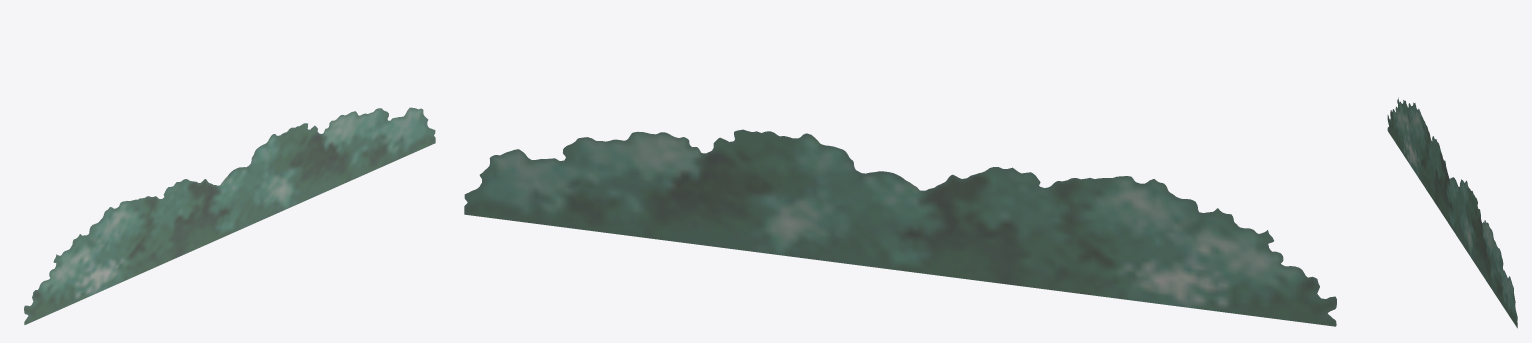
Rendered from sucai_28.FBX.
The picture shows the model from 3 angles, left to right: view 1: azimuth 30°, elevation 25°; view 2: azimuth 150°, elevation 25°; view 3: azimuth 270°, elevation 25°; orthographic projection. The views are drawn at different scales.
Parts seen in each view (by area): view 1: sucai_28; view 2: sucai_28; view 3: sucai_28.
Boxes of the visible parts, <box> form: sucai_28: <box>24,107,435,324</box>; sucai_28: <box>464,129,1336,326</box>; sucai_28: <box>1387,97,1517,328</box>.
Bounding box in the file's own units: 45.34 × 12.08 × 12.04.
